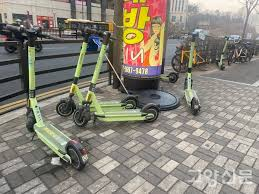kick_board: (7, 24, 88, 169), (182, 31, 202, 115)
kick_body: (104, 109, 140, 121), (187, 90, 198, 103), (100, 102, 122, 107)
kick_handler: (7, 26, 65, 45), (95, 30, 116, 44), (187, 32, 199, 42)
kick_neck: (69, 43, 87, 94), (26, 45, 40, 108), (188, 42, 195, 80)
kick_wheel: (68, 140, 87, 168), (141, 104, 159, 122), (55, 99, 72, 117), (73, 107, 89, 126), (25, 111, 36, 132), (123, 95, 138, 109), (190, 97, 199, 114)
